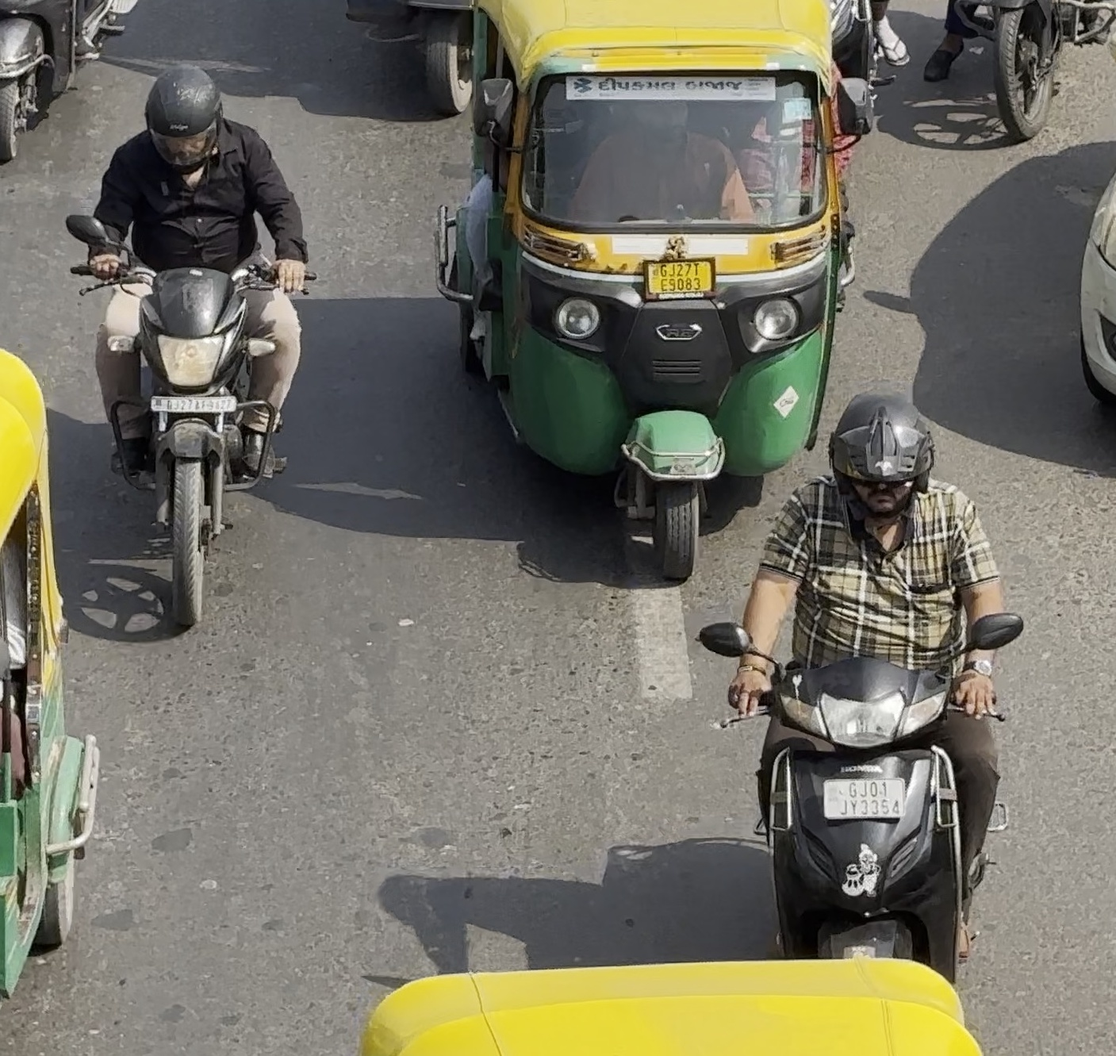BikeWithRider: (688, 374, 1036, 1017), (46, 52, 332, 685)
Helmet: (804, 374, 962, 532), (128, 51, 236, 170)
